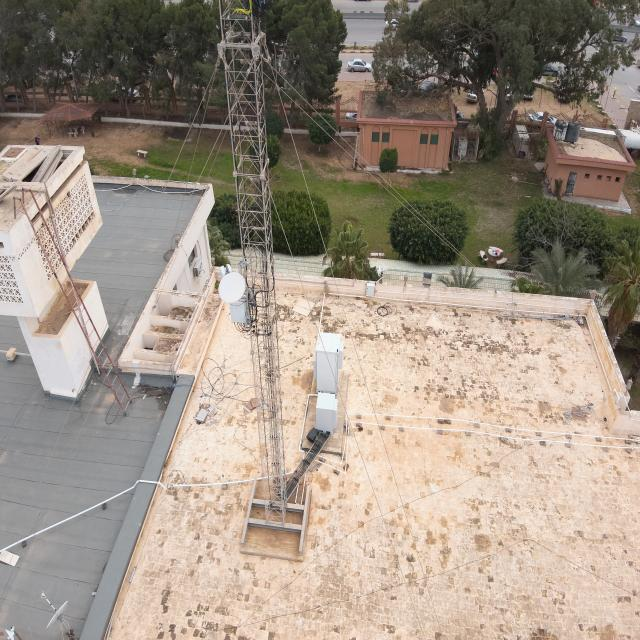microware-dish: (216, 262, 247, 306)
power-box: (228, 283, 255, 328)
